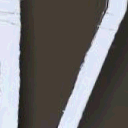crackTip: (17, 1, 110, 128)
